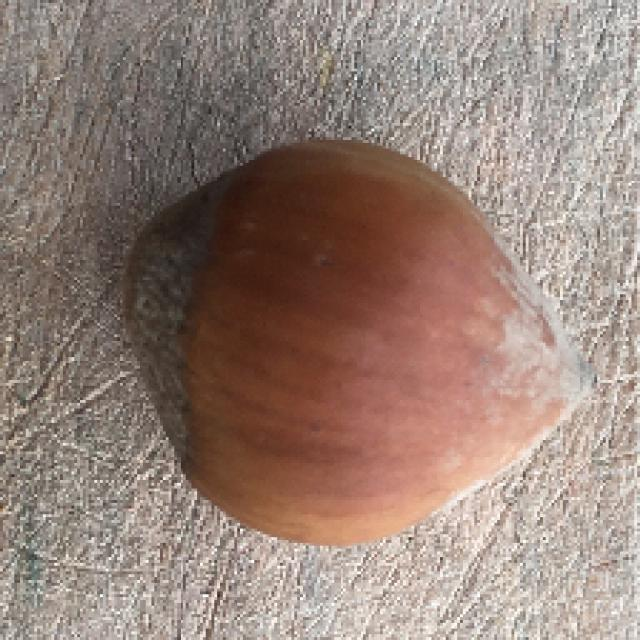DamagedHazelnut: (117, 133, 600, 545)
